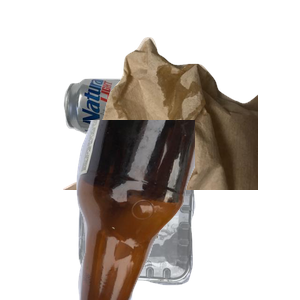glass: (60, 120, 300, 300)
metal: (61, 75, 231, 202)
plastic: (76, 162, 264, 300)
trash: (60, 35, 300, 215)
